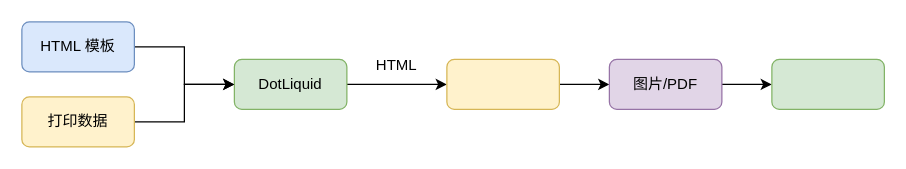
Image size: 906x169. Some labels were removed from this diagram. Each missing label, with the centre of its shape:
PrintDocument: [827,83]
WebView2: [502,83]
